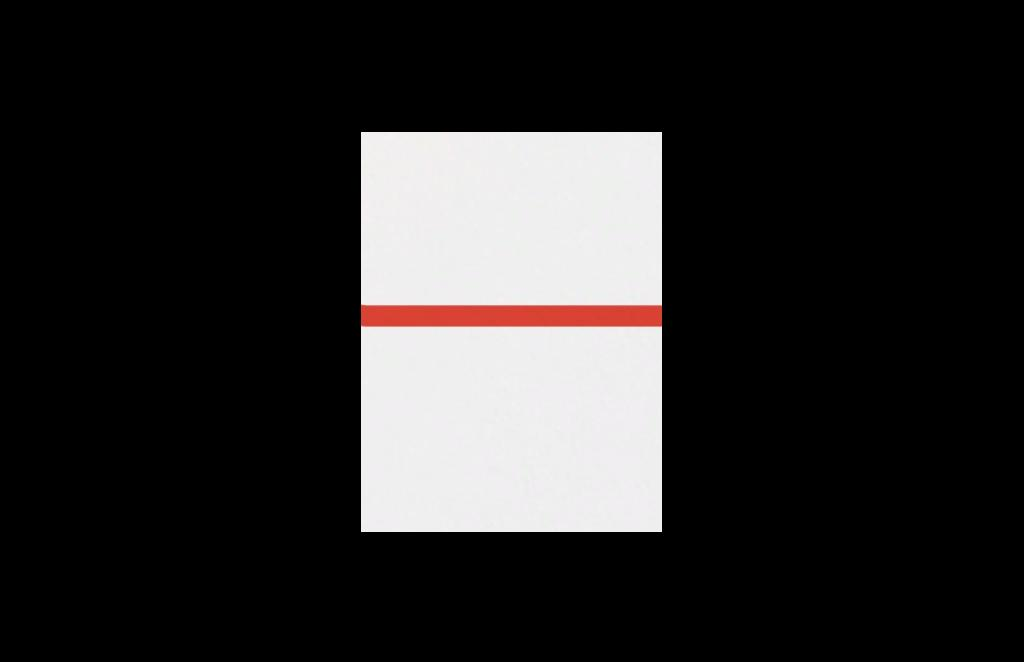connected_station: (362, 259, 386, 358)
